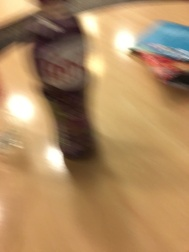bottle_purple: (25, 3, 109, 173)
